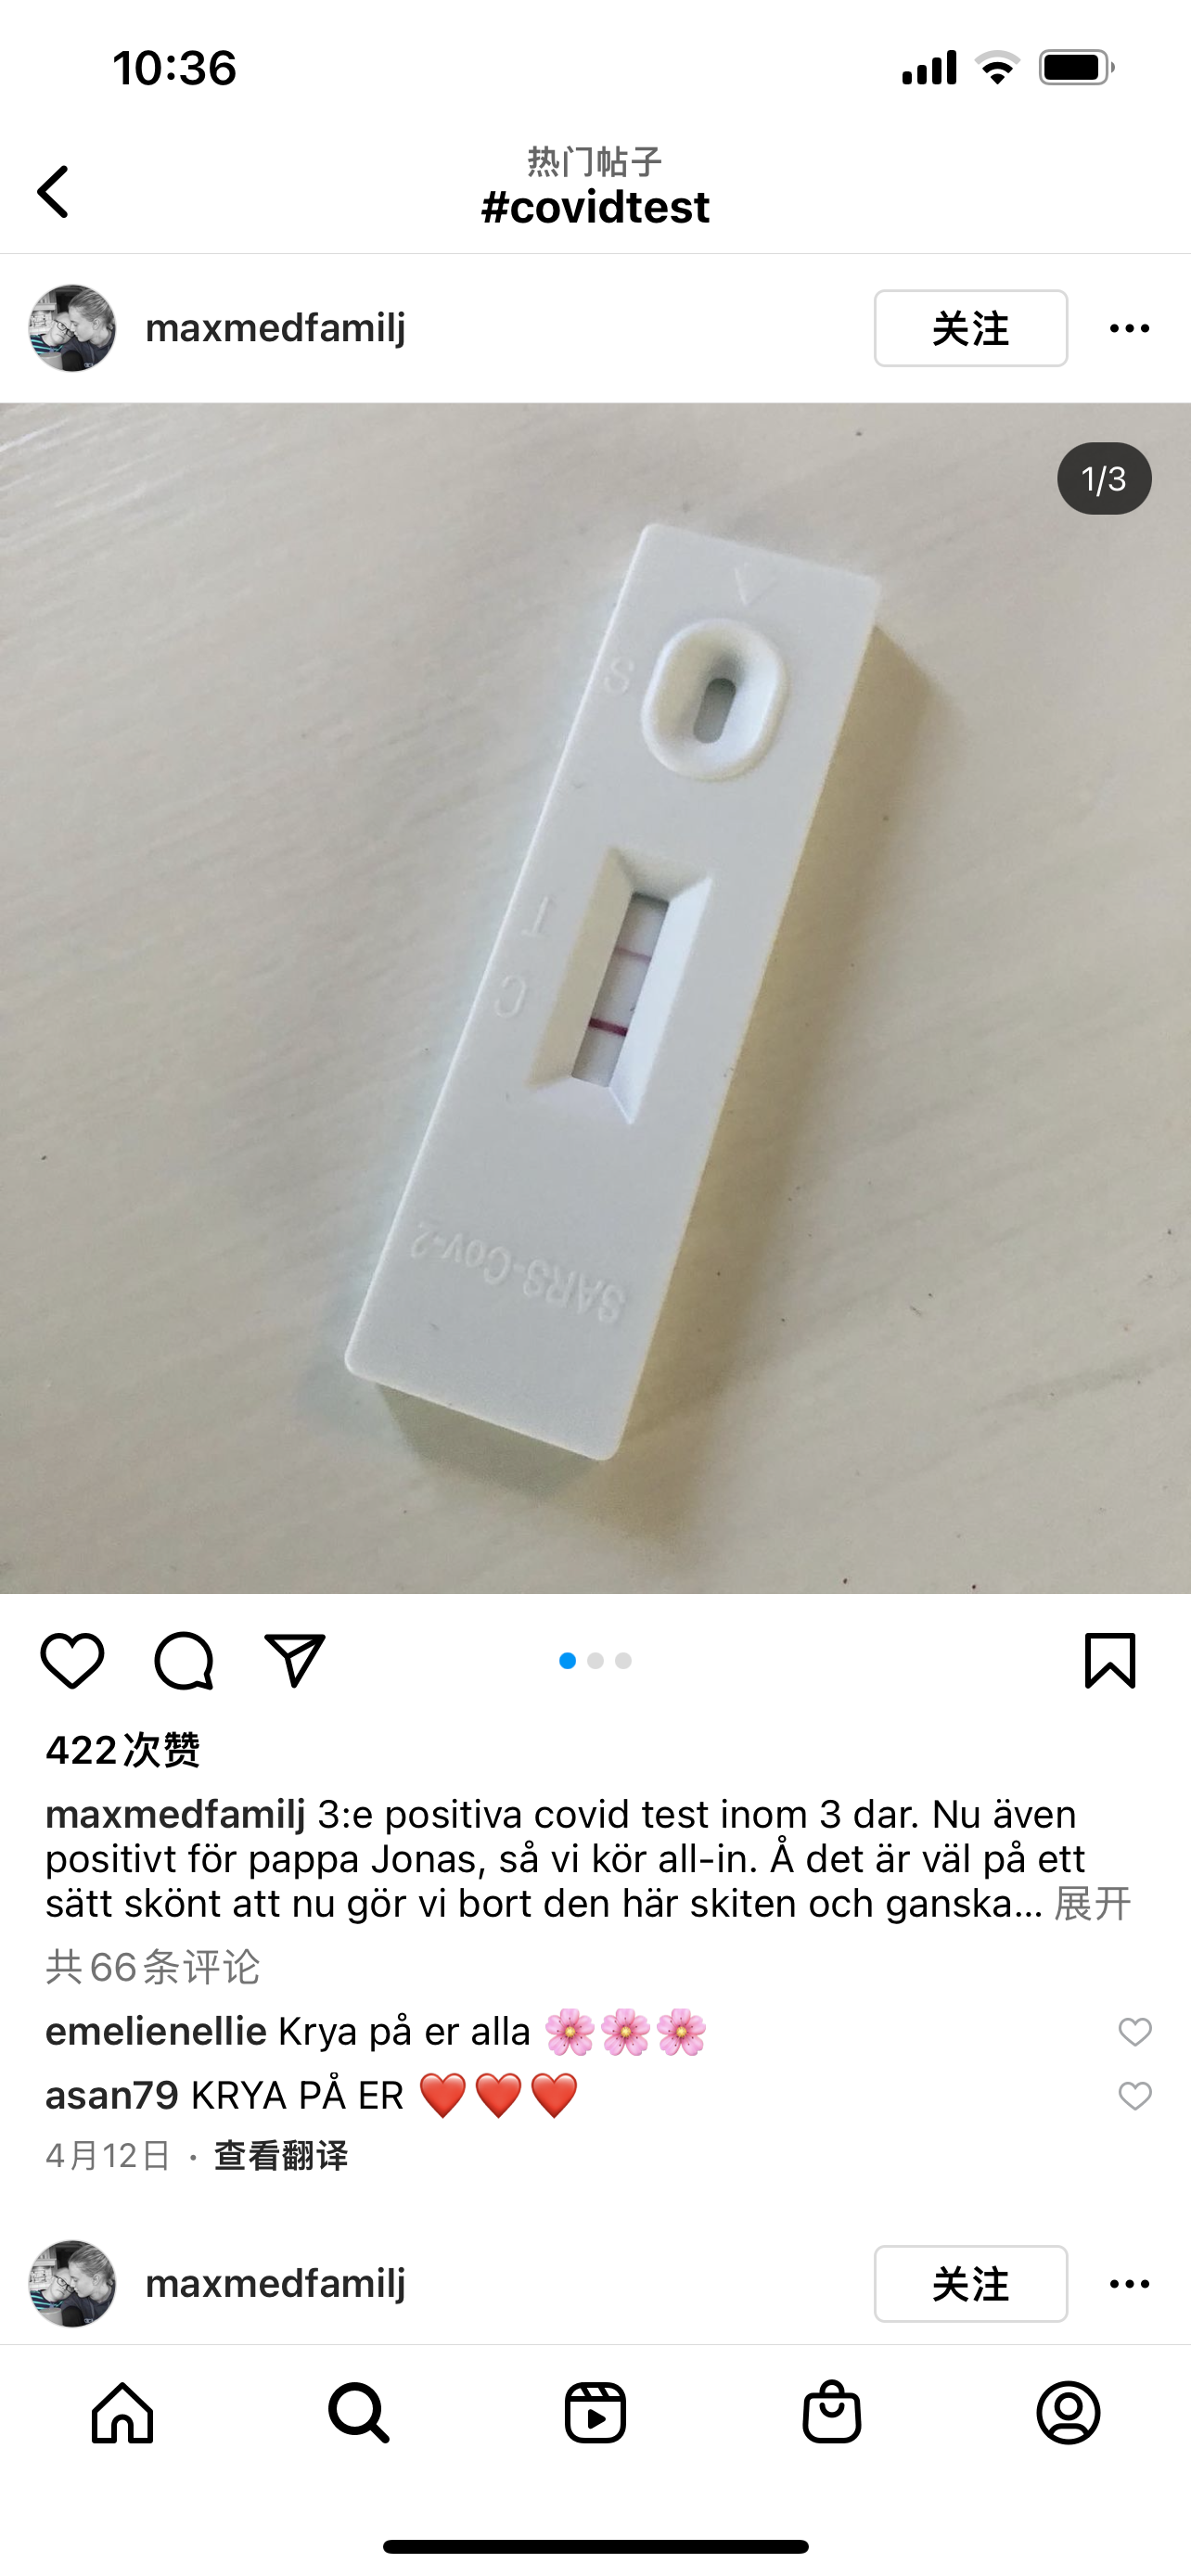positive: (563, 862, 670, 1102)
